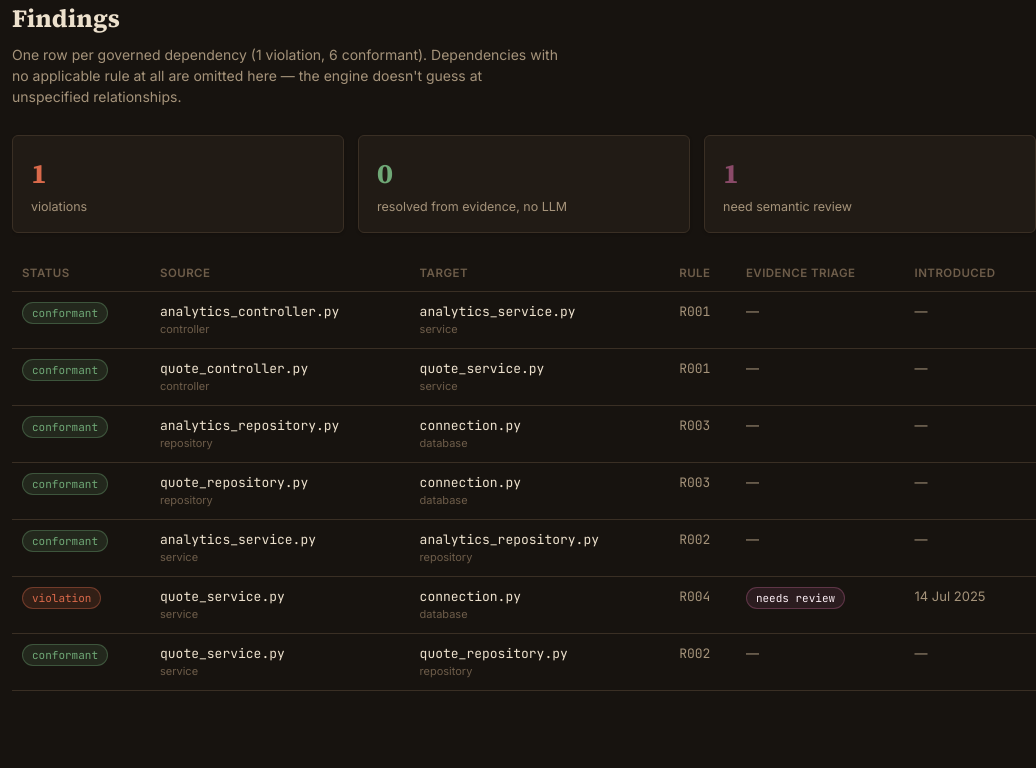
Scenario: Finding detail › suggests a fix on request, scoped to its analysis run, and labels it as a suggestion
This screenshot has width=1036, height=768.
Click the row that starts with "violation": (524, 604) x1=12 y1=576 x2=1035 y2=633
(page scrolled)
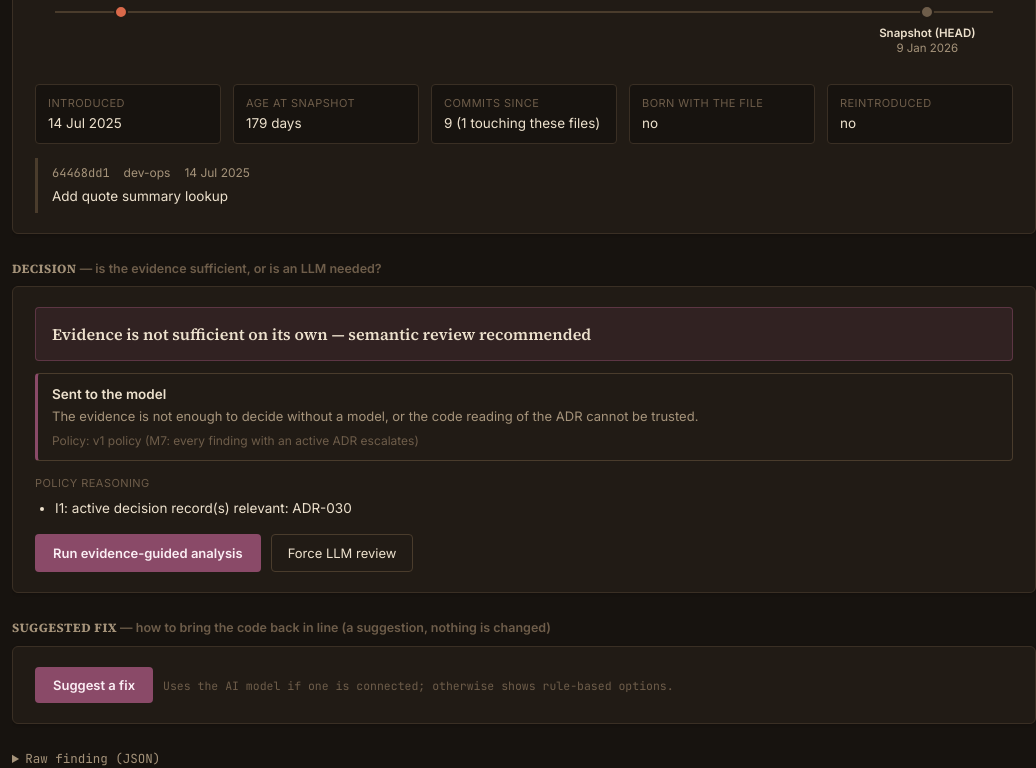
Expected: the element with test id "decision-panel" is shown, x1=35 y1=307 x2=1013 y2=572
Expected: the heading "Suggested fix" is shown, x1=12 y1=619 x2=117 y2=636
Click the button with test id "suggest-fix": (94, 684) x1=35 y1=666 x2=153 y2=702
(page scrolled)
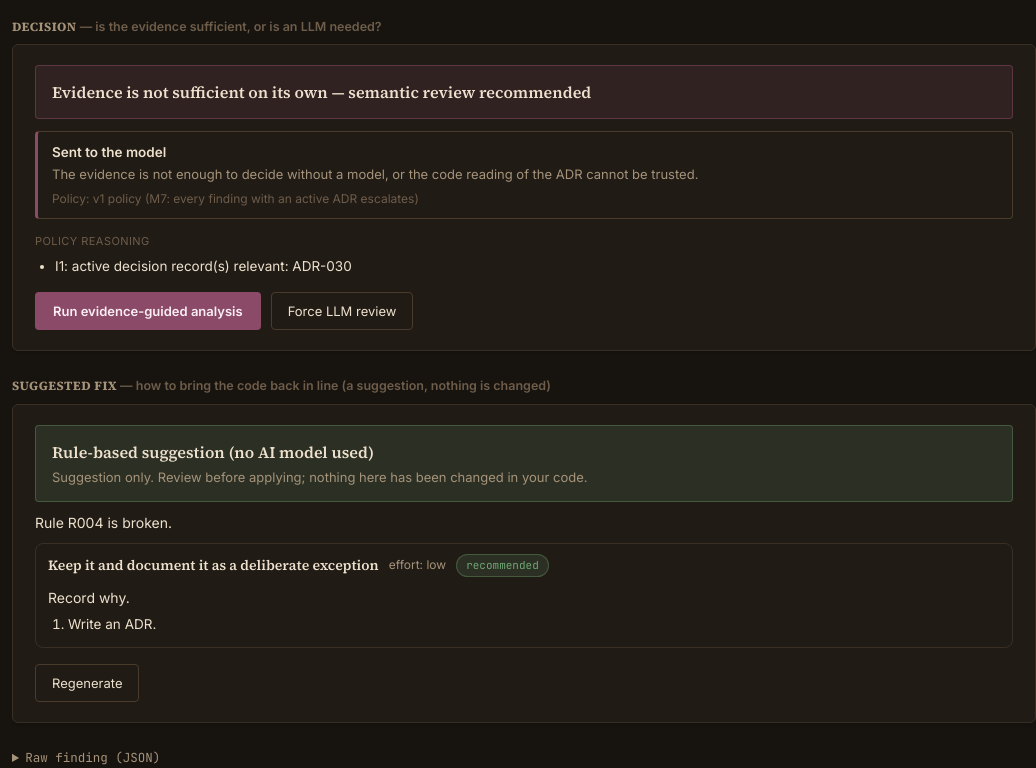
Expected: the element with test id "recommendation-banner" is shown, x1=35 y1=424 x2=1013 y2=502
Expected: the element with test id "recommendation-banner" shows "Review before applying", x1=52 y1=468 x2=588 y2=484
Expected: the element with test id "option-document_exception" is shown, x1=35 y1=543 x2=1013 y2=648
